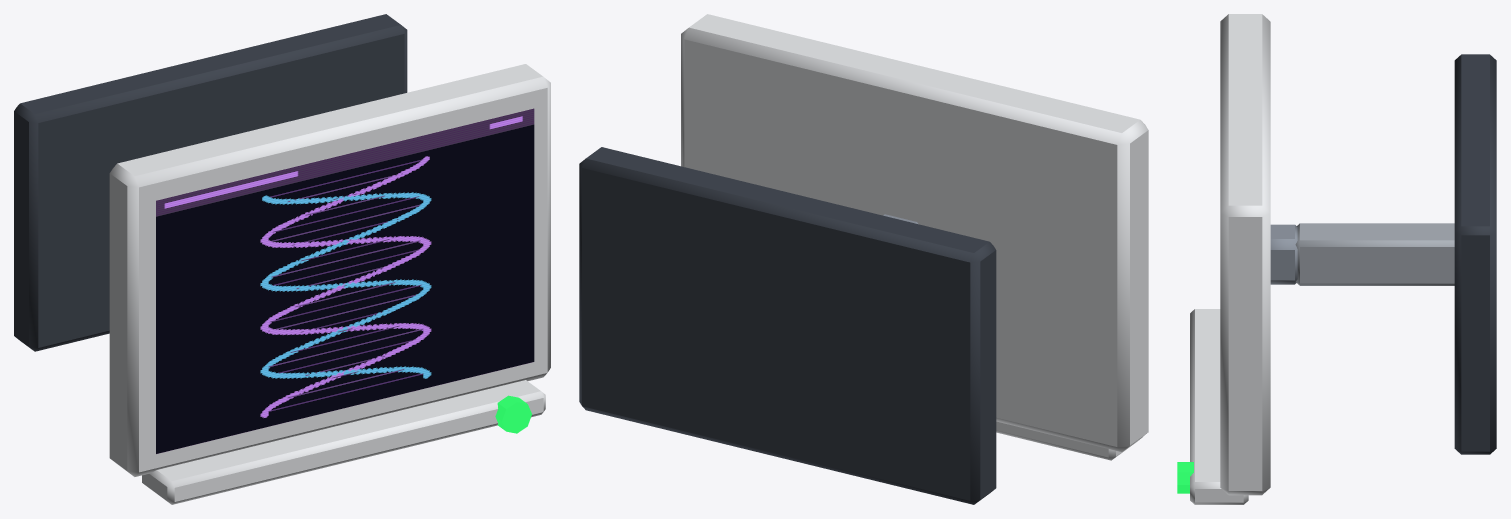
The model's file is display_vitals_monitor.glb.
The picture shows the model from 3 angles, left to right: view 1: azimuth 30°, elevation 25°; view 2: azimuth 150°, elevation 25°; view 3: azimuth 270°, elevation 25°; orthographic projection. The views are drawn at different scales.
Parts seen in each view (by area): view 1: display_vitals_monitor; view 2: display_vitals_monitor; view 3: display_vitals_monitor.
Boxes of the visible parts, x1,y1,x2,y2 form: display_vitals_monitor: [14, 14, 550, 504]; display_vitals_monitor: [579, 14, 1148, 504]; display_vitals_monitor: [1177, 14, 1496, 504].
Size of the model in its own units: 0.56 by 0.41 by 0.38.
Materials: 6 (1 with a texture image).
